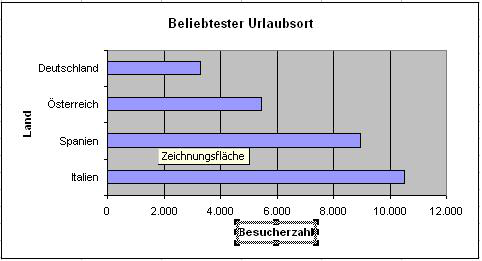canvas: (110, 53, 443, 191)
title: (165, 15, 318, 34)
x-axis: (104, 193, 452, 201)
x-labels: (102, 205, 465, 219)
x-title: (231, 217, 321, 249)
y-axis: (101, 47, 111, 202)
y-labels: (38, 59, 101, 185)
y-title: (21, 107, 36, 140)
